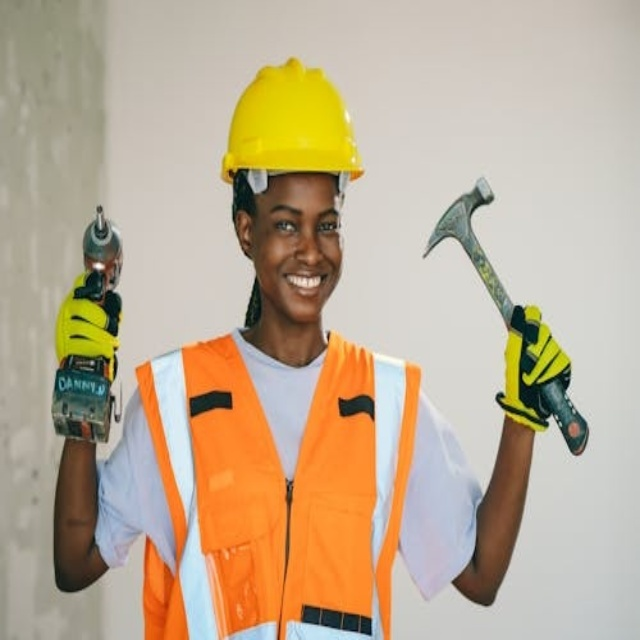Guantes: (498, 305, 576, 434), (55, 273, 124, 379)
Sin_gafas: (264, 203, 343, 242)
Sin_mascara: (276, 266, 332, 307)
